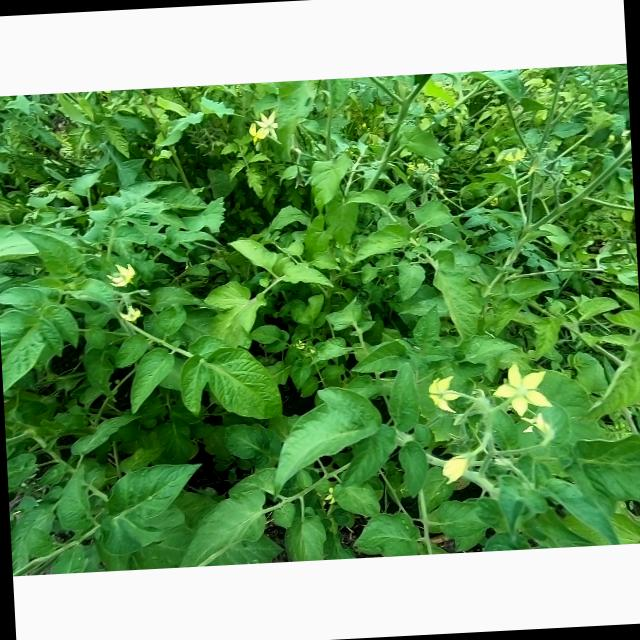Flowers: (492, 361, 554, 416), (428, 372, 462, 414), (249, 110, 281, 145), (520, 414, 556, 445), (442, 455, 472, 485), (105, 262, 136, 289), (496, 146, 527, 166), (118, 307, 144, 323), (416, 162, 428, 173), (295, 340, 306, 350)
